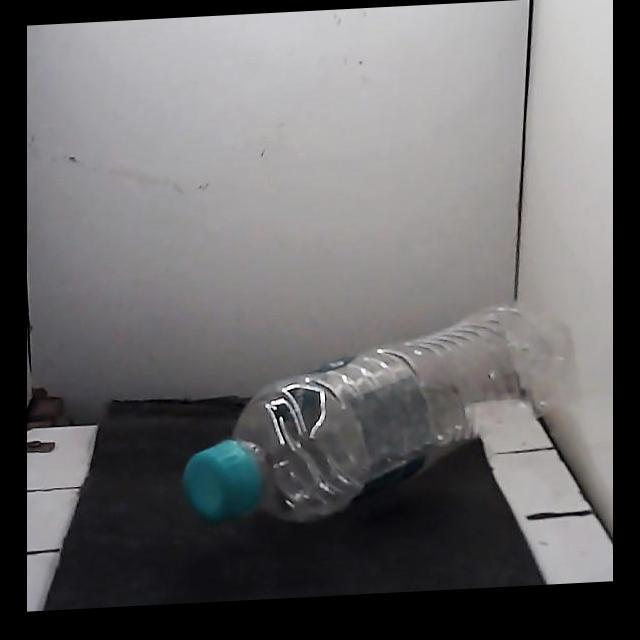plastico: (183, 307, 569, 521)
